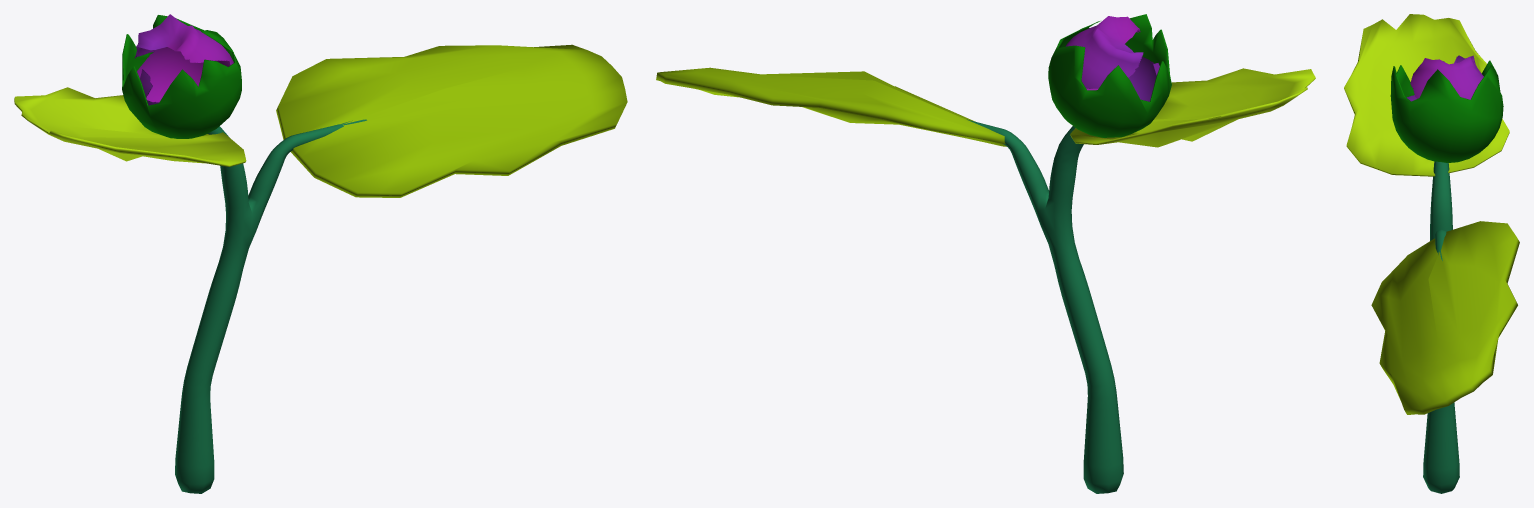
Rendered from เชอรี่ 1.fbx.
3 views of the same model, side by side, from view 1: azimuth 30°, elevation 25°; view 2: azimuth 150°, elevation 25°; view 3: azimuth 270°, elevation 25° (orthographic). The views are drawn at different scales.
Parts seen in each view (by area): view 1: Circle.001; view 2: Circle.001; view 3: Circle.001.
Boxes of the visible parts, box(x1,y1,x2,y2) form: Circle.001: box(14, 14, 627, 493); Circle.001: box(656, 14, 1315, 493); Circle.001: box(1344, 14, 1519, 493).
Bounding box in the file's own units: 139 × 102 × 37.62.
